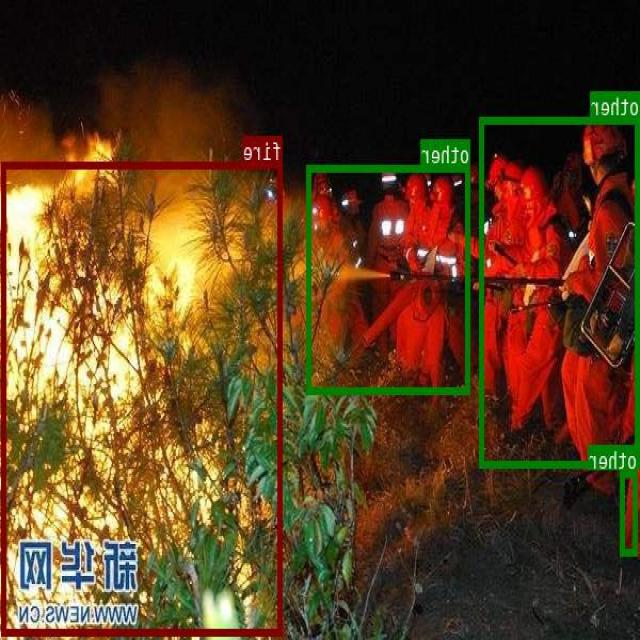fire: (2, 161, 283, 635)
other: (480, 115, 640, 466), (308, 164, 472, 392), (621, 470, 638, 554)
